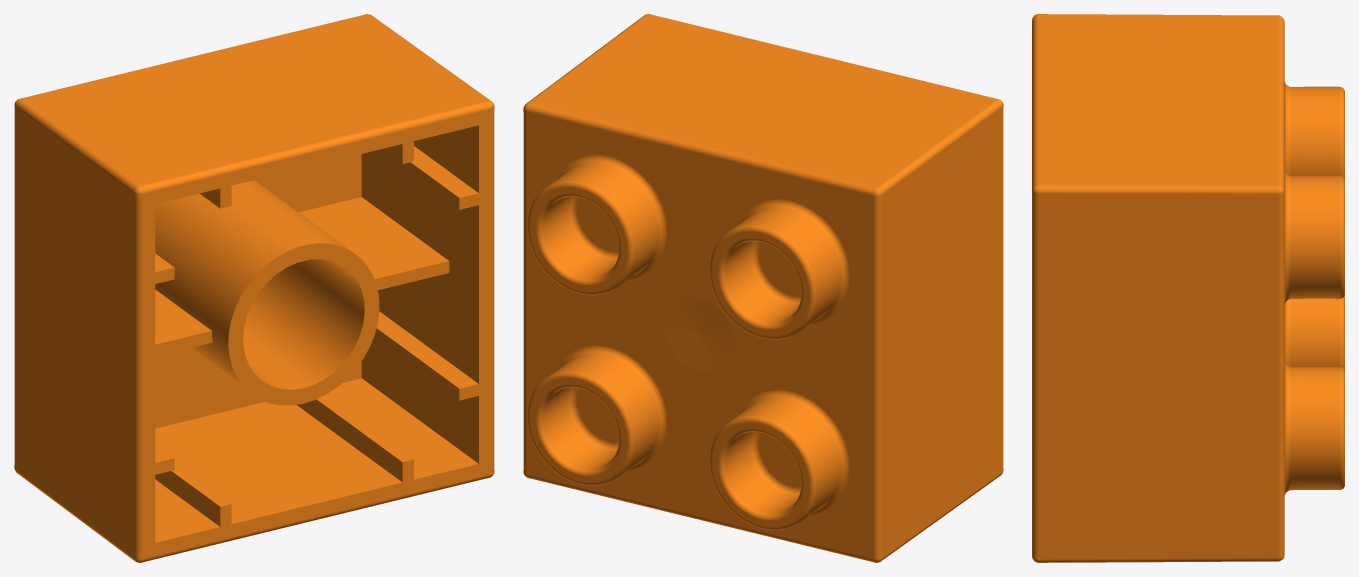
File: large_brick_toy_2x2_render_orange.glb
3 renders of one model, left to right at view 1: azimuth 30°, elevation 25°; view 2: azimuth 150°, elevation 25°; view 3: azimuth 270°, elevation 25°, orthographic.
Visible parts, largest first — view 1: SM_LargeBrickToy_2x2_Visual; view 2: SM_LargeBrickToy_2x2_Visual; view 3: SM_LargeBrickToy_2x2_Visual.
Boxes of the visible parts, x1,y1,x2,y2 form: SM_LargeBrickToy_2x2_Visual: [14, 14, 494, 562]; SM_LargeBrickToy_2x2_Visual: [523, 14, 1003, 562]; SM_LargeBrickToy_2x2_Visual: [1032, 14, 1344, 562].
Bounding box in the file's own units: 0.0316 × 0.0316 × 0.0238.
